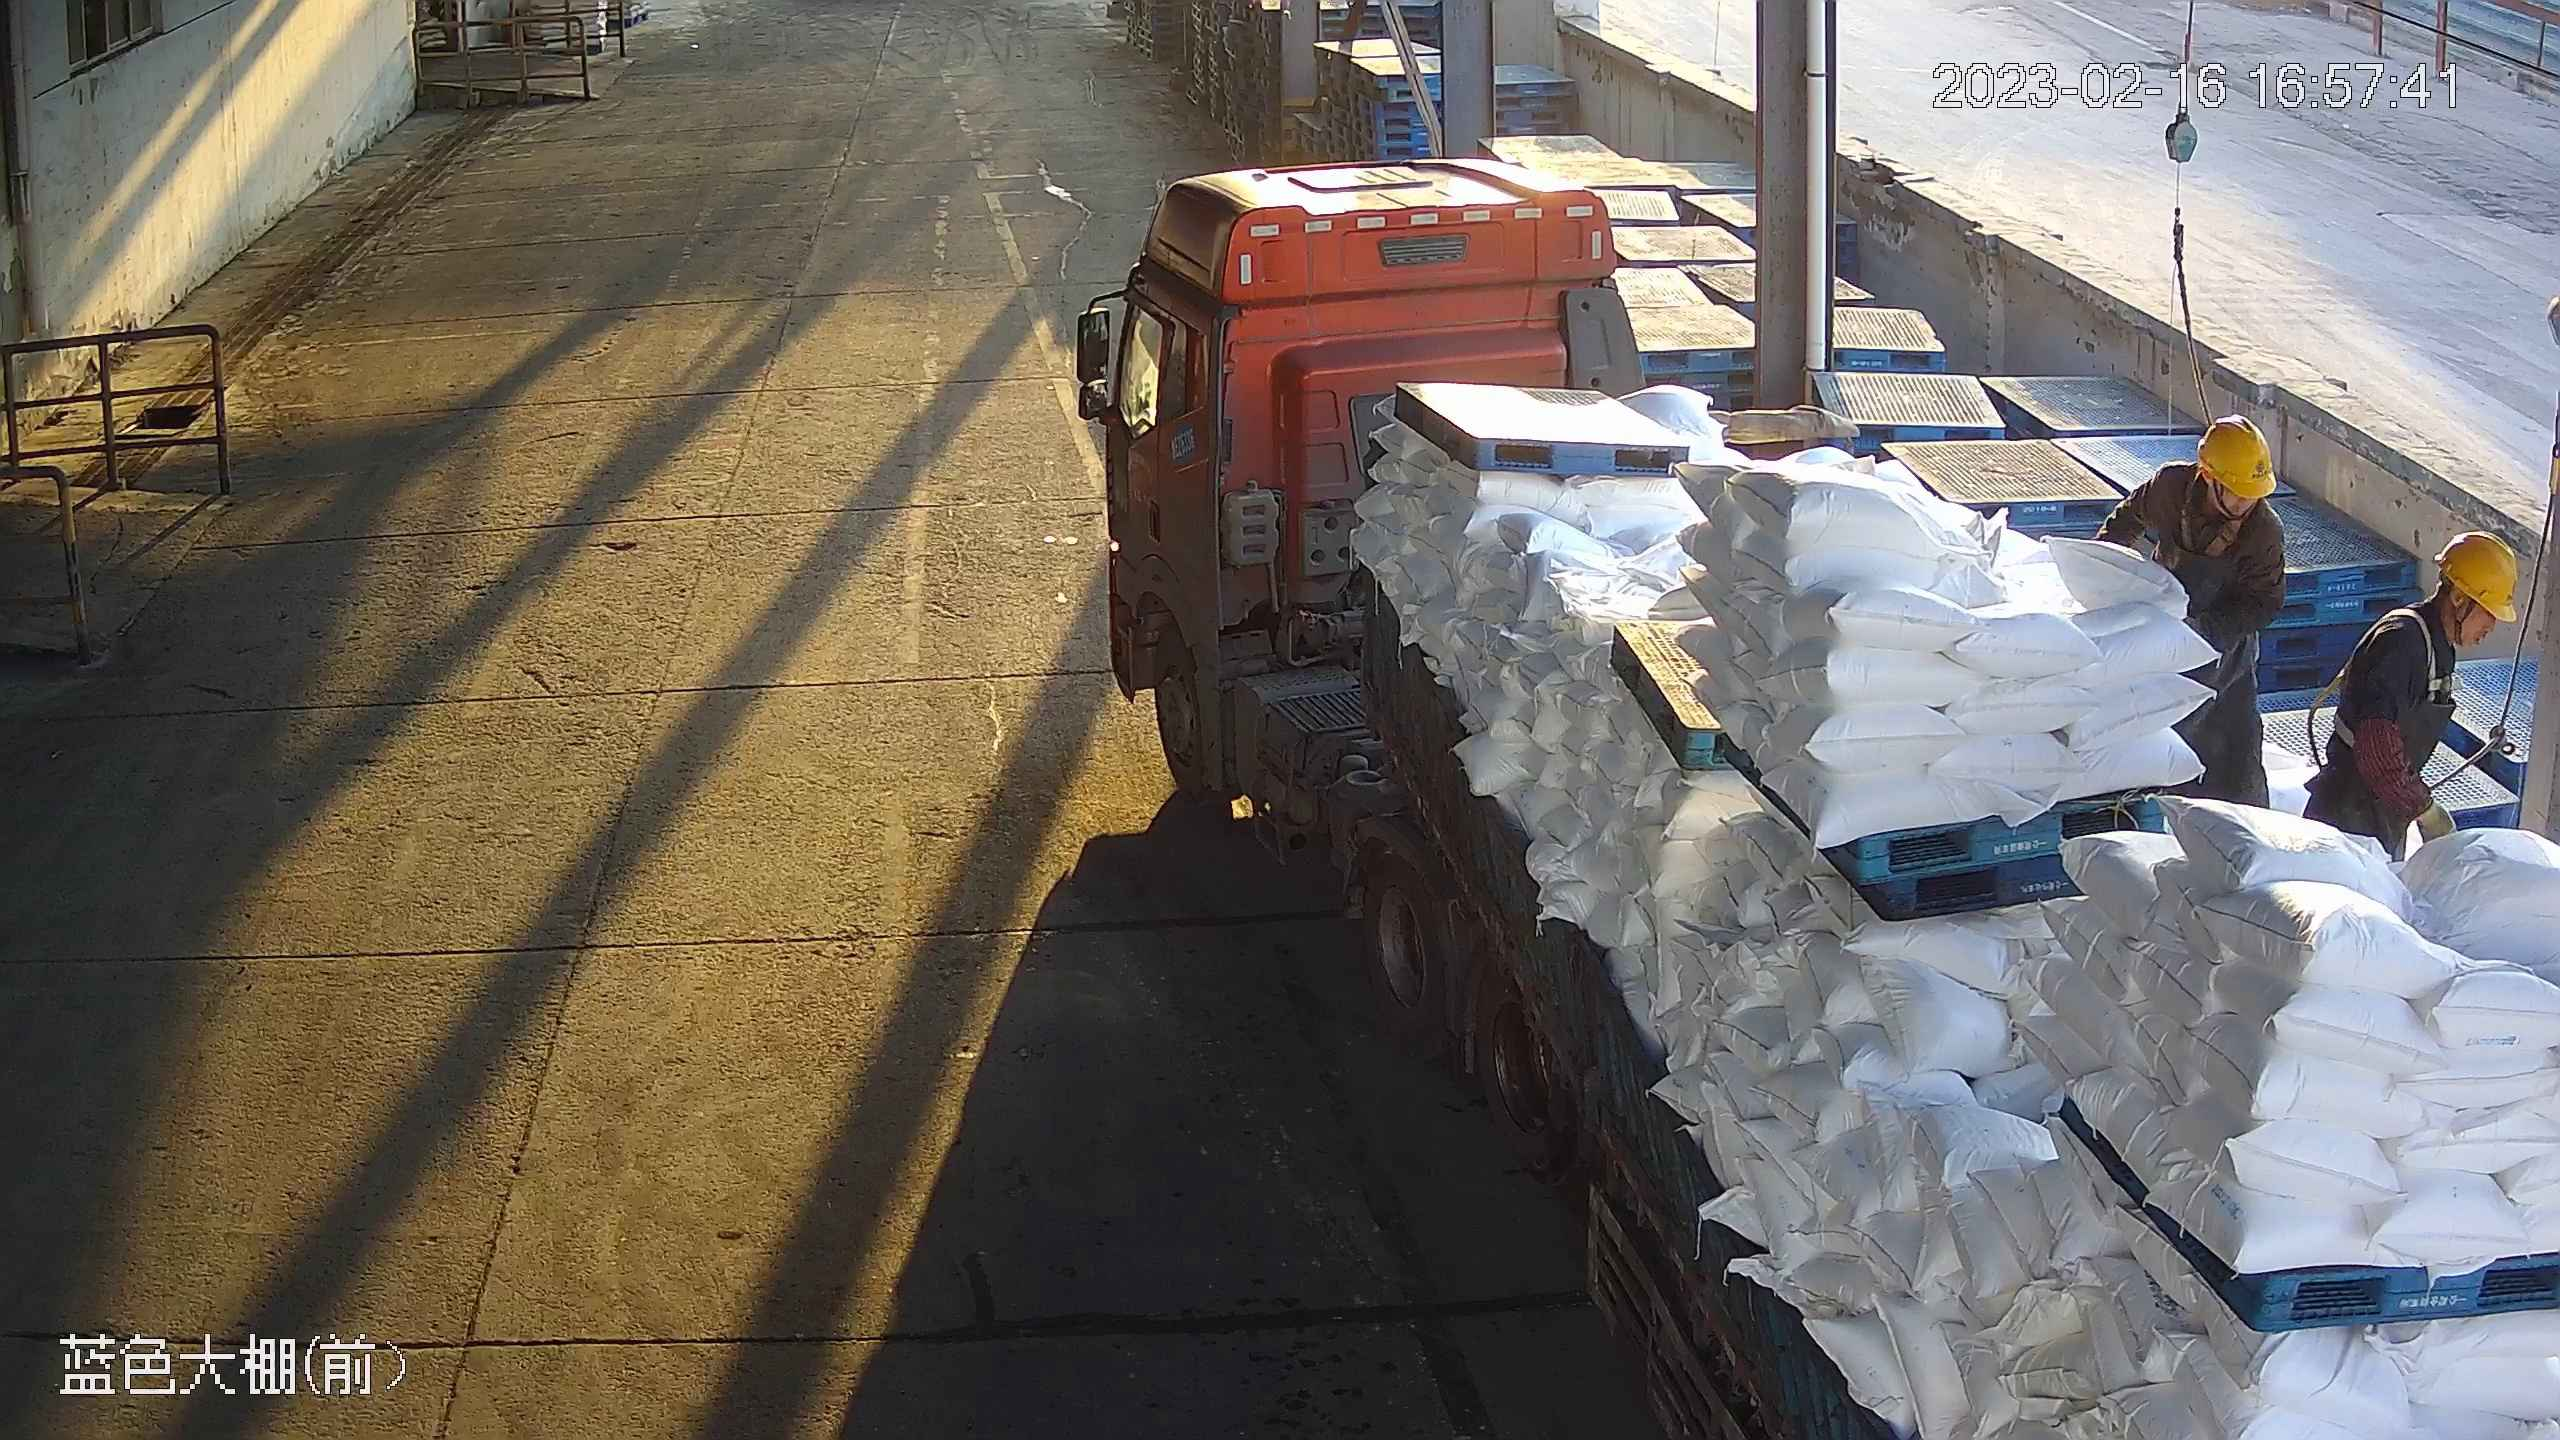belt: (2337, 609, 2463, 750), (2173, 496, 2246, 558)
head: (2356, 522, 2516, 706), (2142, 414, 2285, 555)
helmet: (2430, 523, 2521, 620), (2204, 416, 2290, 495)
people: (2088, 399, 2276, 860)
truck: (1069, 150, 2560, 1440)
